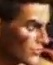kevin: (4, 0, 49, 64)
